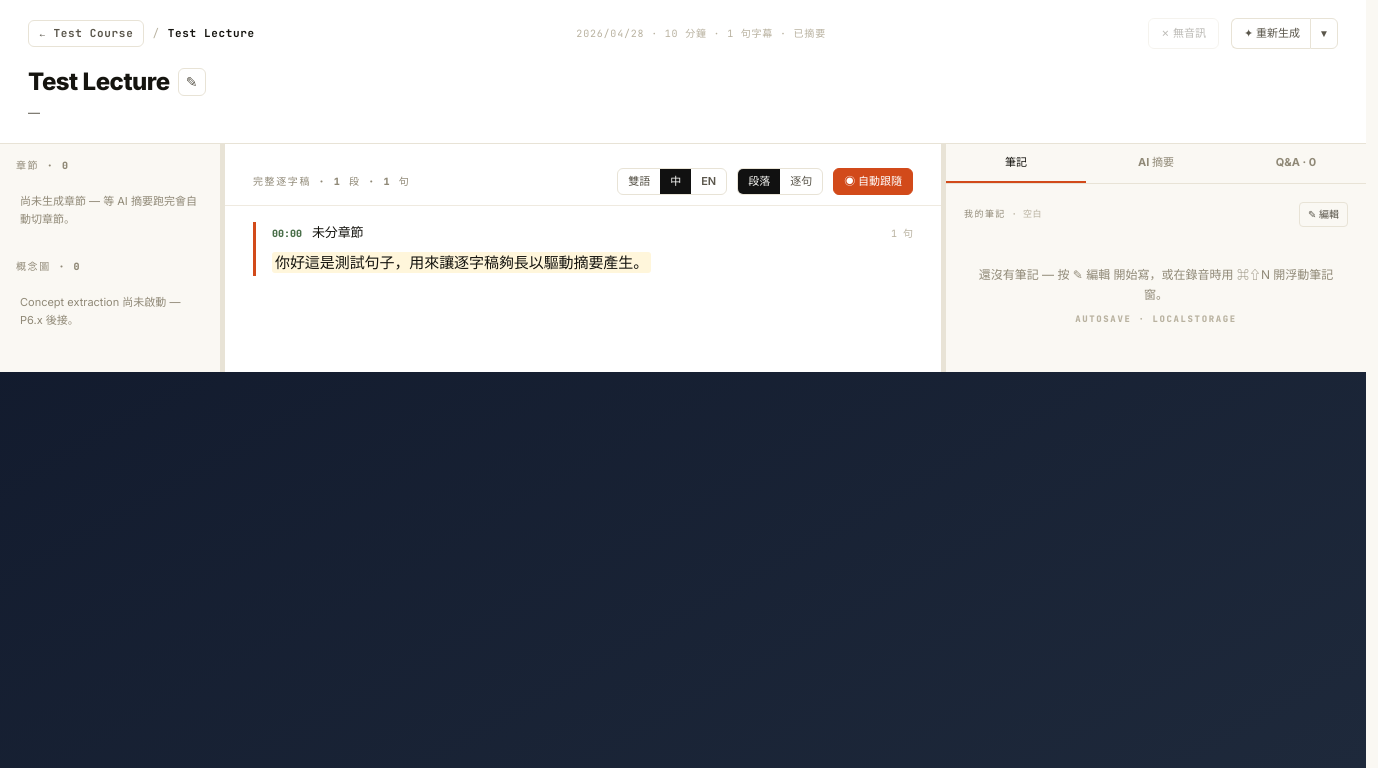
Test case: H18ReviewPage · cp75.29 markdown rendering in 摘要 tab › renders **bold** as <strong>
Step 1. Click the button "AI 摘要" → (1156, 163), box [1086,144,1226,183]
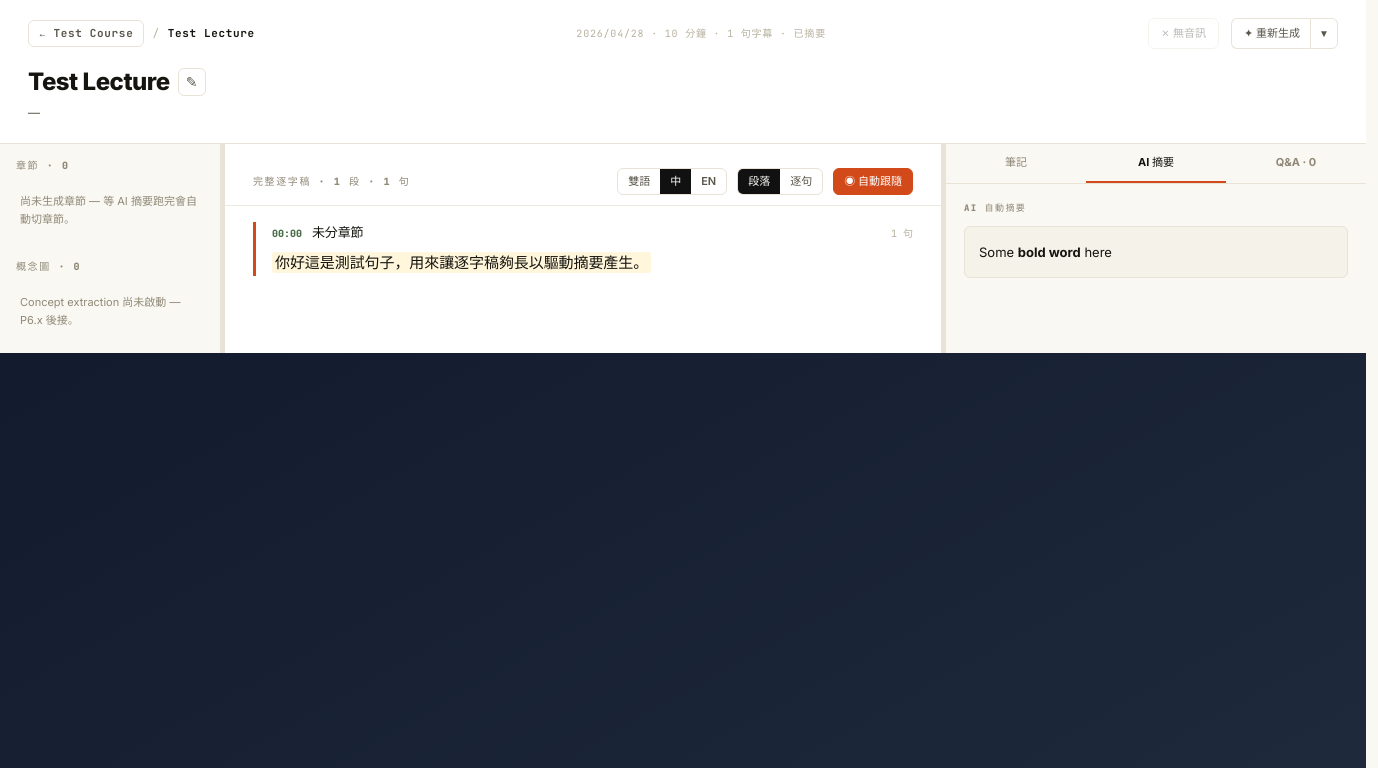
Result: the text "bold word" is shown at [1018,244,1081,260]
